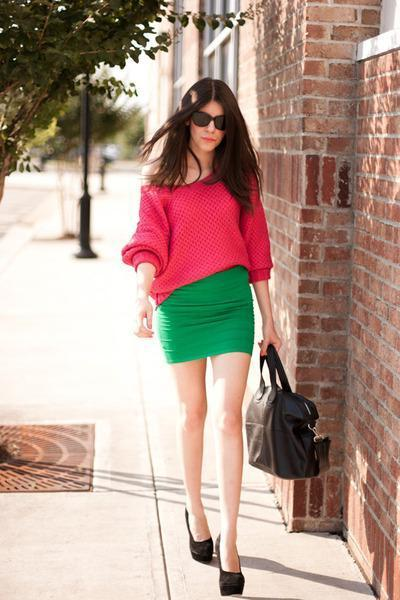skirt: (152, 263, 260, 369)
sweater: (121, 151, 277, 305)
